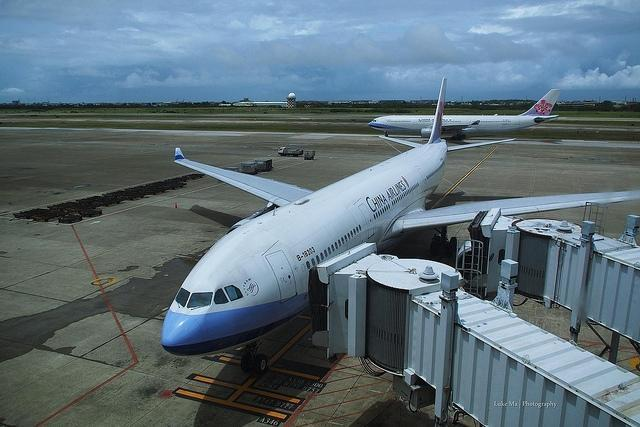truck: (278, 146, 302, 157)
